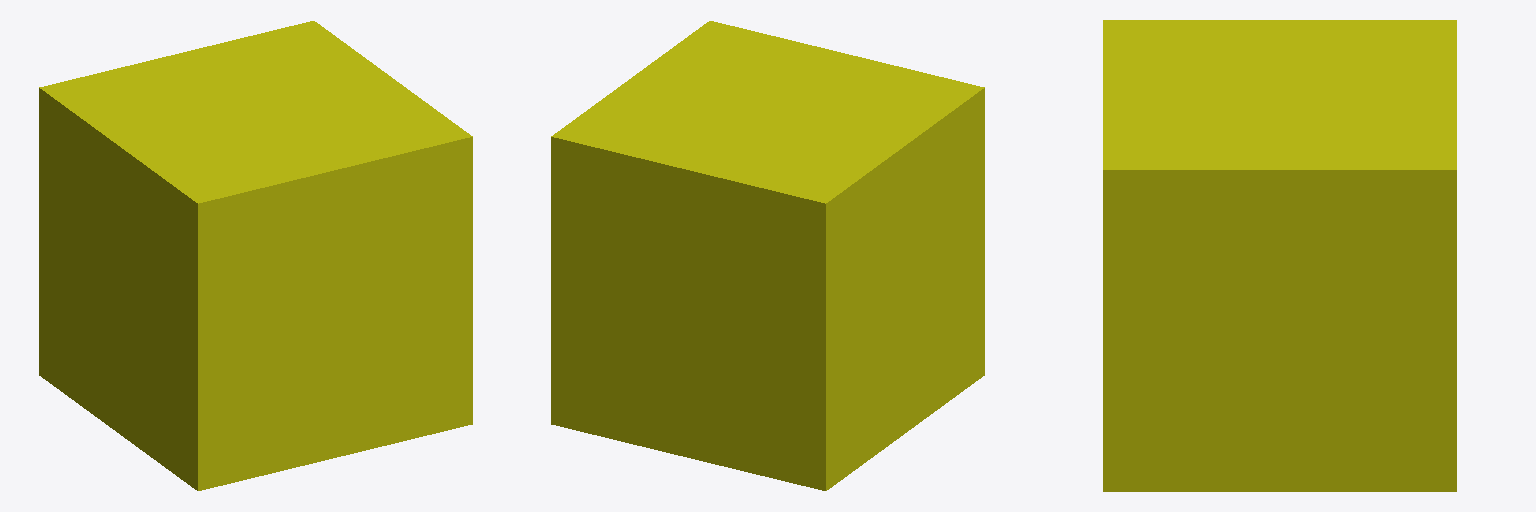
robot.urdf — simple_cuboid:
<?xml version="1.0"?>
<robot name="simple_cuboid">
  <link name="base_link">
    <inertial>
      <origin xyz="0 0 0" rpy="0 0 0" />
      <mass value="0.1" />
      <inertia ixx="0.000363" ixy="0" ixz="0" iyy="0.000363" iyz="0"
          izz="0.00006" />
    </inertial>
    <visual>
      <origin xyz="0 0 0" rpy="0 0 0" />
      <geometry>
        <box size="0.1 0.1 0.1" />
      </geometry>
      <material name="red">
        <color rgba="0.8 0.8 0.1 1" />
      </material>
    </visual>

    <!--
      This places contact spheres on the corners of the visual box and a
      *slightly* smaller inset contact box (centered on the visual origin). This
      accounts for issues in the contact computation providing stable table
      contact *and* supports grasping.

      When the box is in stable contact with the ground plane, the corner
      spheres will provide fixed contact points (simulating distributed contact
      points around the face).  However, for arbitrary grip configuration, the
      slightly inset box will provide contact with a *slight* offset (in this
      case a deviation of 0.0005 m from the visual surface).

      https://github.com/RobotLocomotion/drake/issues/6254 tracks the
      difficulty in supporting face-to-face contact.
     -->
    <collision>
      <geometry>
        <box size="0.099 0.099 0.099" />
      </geometry>
    </collision>

    <collision>
      <origin xyz="-0.05 -0.05 -0.05" rpy="0 0 0"/>
      <geometry>
        <sphere radius="1e-7"/>
      </geometry>
    </collision>
    <collision>
      <origin xyz="-0.05 0.05 -0.05" rpy="0 0 0"/>
      <geometry>
        <sphere radius="1e-7"/>
      </geometry>
    </collision>
    <collision>
      <origin xyz="0.05 0.05 -0.05" rpy="0 0 0"/>
      <geometry>
        <sphere radius="1e-7"/>
      </geometry>
    </collision>
    <collision>
      <origin xyz="0.05 -0.05 -0.05" rpy="0 0 0"/>
      <geometry>
        <sphere radius="1e-7"/>
      </geometry>
    </collision>

    <collision>
      <origin xyz="-0.05 -0.05 0.05" rpy="0 0 0"/>
      <geometry>
        <sphere radius="1e-7"/>
      </geometry>
    </collision>
    <collision>
      <origin xyz="-0.05 0.05 0.05" rpy="0 0 0"/>
      <geometry>
        <sphere radius="1e-7"/>
      </geometry>
    </collision>
    <collision>
      <origin xyz="0.05 0.05 0.05" rpy="0 0 0"/>
      <geometry>
        <sphere radius="1e-7"/>
      </geometry>
    </collision>
    <collision>
      <origin xyz="0.05 -0.05 0.05" rpy="0 0 0"/>
      <geometry>
        <sphere radius="1e-7"/>
      </geometry>
    </collision>

   </link>
</robot>

--- Render facts (derived) ---
The picture shows the robot from 3 angles, left to right: view 1: azimuth 30°, elevation 25°; view 2: azimuth 150°, elevation 25°; view 3: azimuth 270°, elevation 25°; orthographic projection.
Model simple_cuboid with 1 links and 0 joints (none), rooted at base_link, posed all joints at 0.
Links seen in each view (by area): view 1: base_link; view 2: base_link; view 3: base_link.
Boxes of the visible links, x1,y1,x2,y2 form: base_link: (39,21,472,490); base_link: (551,21,984,490); base_link: (1103,20,1456,491).
Bounding box of the posed robot: 0.1 × 0.1 × 0.1 m (x, y, z).
Geometry: primitives only (box / cylinder / sphere), no mesh files.